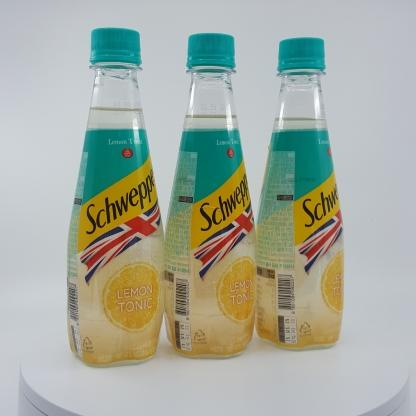-------350ML: (66, 27, 165, 368), (164, 33, 257, 359), (254, 37, 344, 350)
